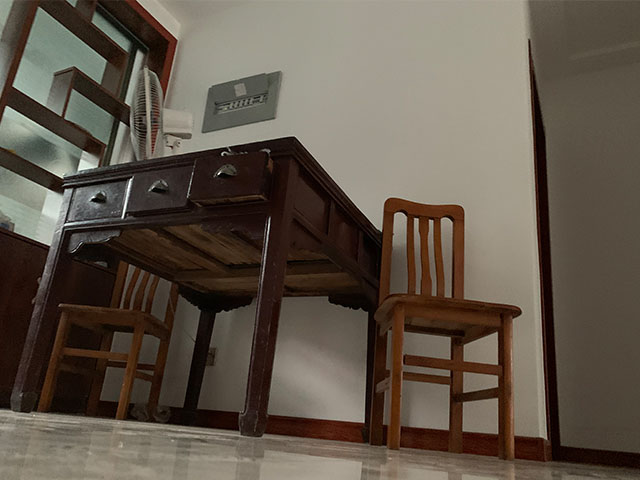cabinet: (1, 223, 114, 419)
stool: (368, 196, 524, 462), (36, 258, 180, 422)
table: (10, 135, 386, 445)
